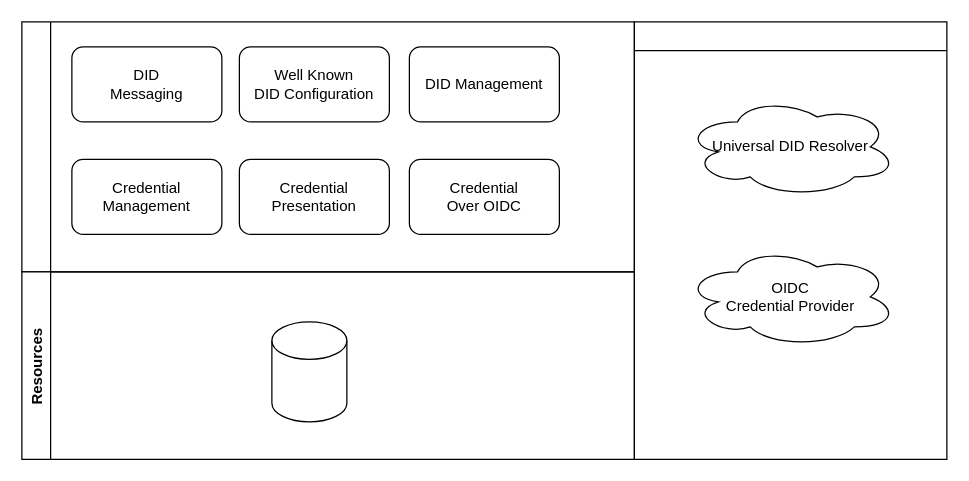
Image size: 969x481. Some labels were removed from this diagram. The shapes that lost their labels are listed below. From the top down, each one's box as (x1, y1, x2, y2) in pixels, then its label:
(21, 21, 634, 272): Components
(633, 21, 947, 459): Remote Resources
(271, 321, 347, 422): Encrypted Storage
